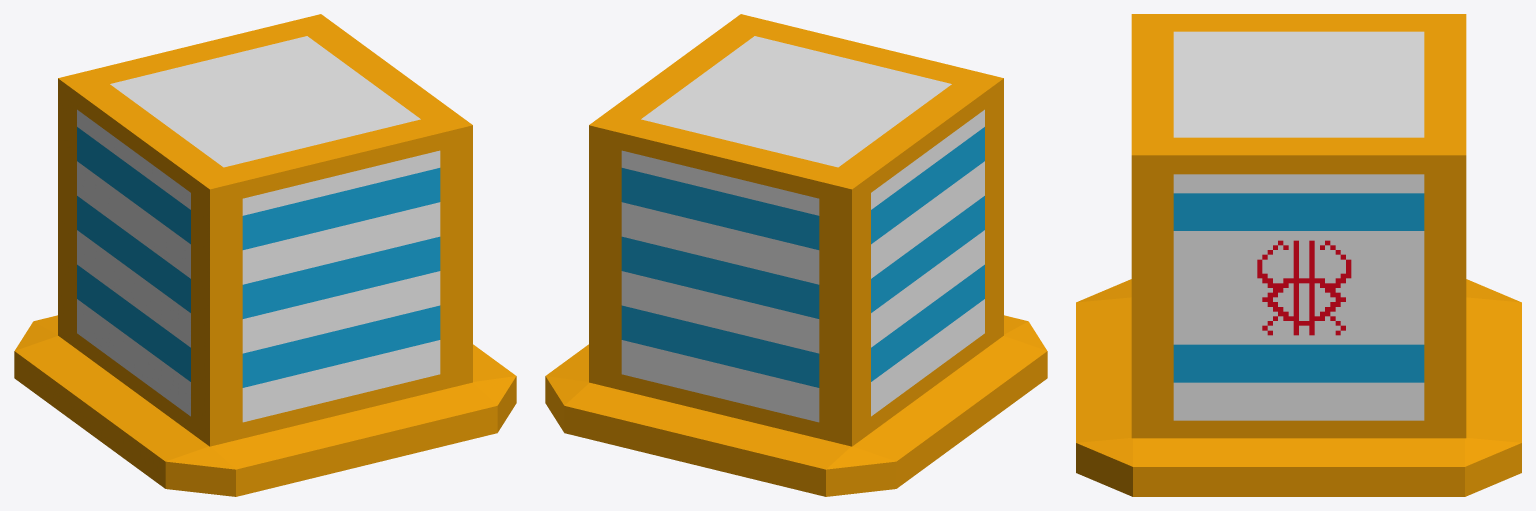
The model's file is Space_Office_Lvl_1.fbx.
The picture shows the model from 3 angles, left to right: view 1: azimuth 30°, elevation 25°; view 2: azimuth 150°, elevation 25°; view 3: azimuth 270°, elevation 25°; orthographic projection. The views are drawn at different scales.
Visible parts, largest first — view 1: Cube; view 2: Cube; view 3: Cube.
Part boxes in pixels (bbox=[...]): Cube: bbox=[14, 14, 516, 496]; Cube: bbox=[545, 14, 1047, 496]; Cube: bbox=[1076, 14, 1521, 496].
Size of the model in its own units: 200 by 160 by 200.
